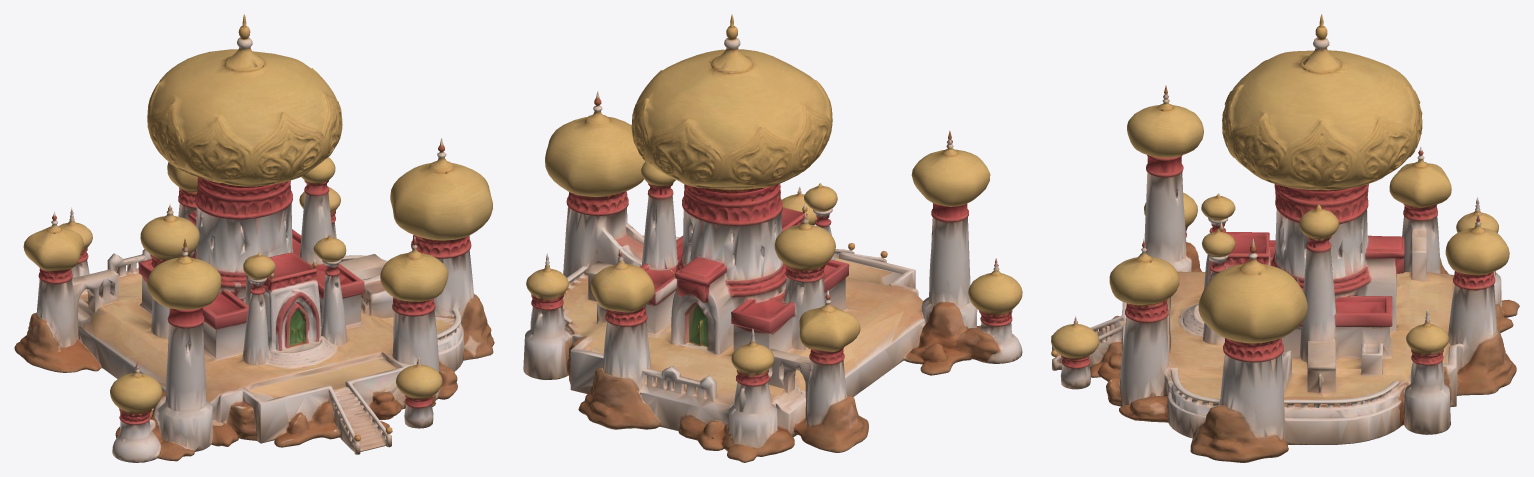
File: Palace_of_the_Golden_.glb
The picture shows the model from 3 angles, left to right: view 1: azimuth 30°, elevation 25°; view 2: azimuth 150°, elevation 25°; view 3: azimuth 270°, elevation 25°; orthographic projection. The views are drawn at different scales.
Visible parts, largest first — view 1: Palace_of_the_Golden_; view 2: Palace_of_the_Golden_; view 3: Palace_of_the_Golden_.
Boxes of the visible parts, box(x1,y1,x2,y2) form: Palace_of_the_Golden_: box(14, 14, 494, 462); Palace_of_the_Golden_: box(523, 14, 1022, 462); Palace_of_the_Golden_: box(1051, 14, 1519, 462).
Size of the model in its own units: 1.9 by 1.49 by 1.81.
Materials: 1 (1 with a texture image).
